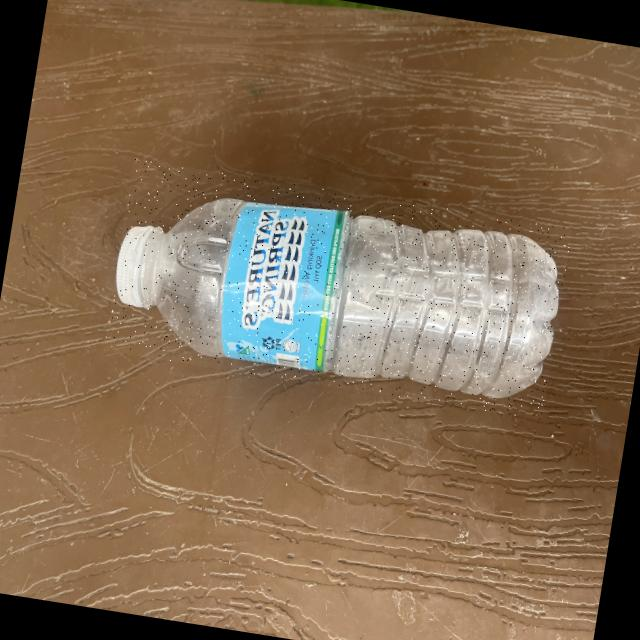REJECT: (103, 158, 572, 419)
